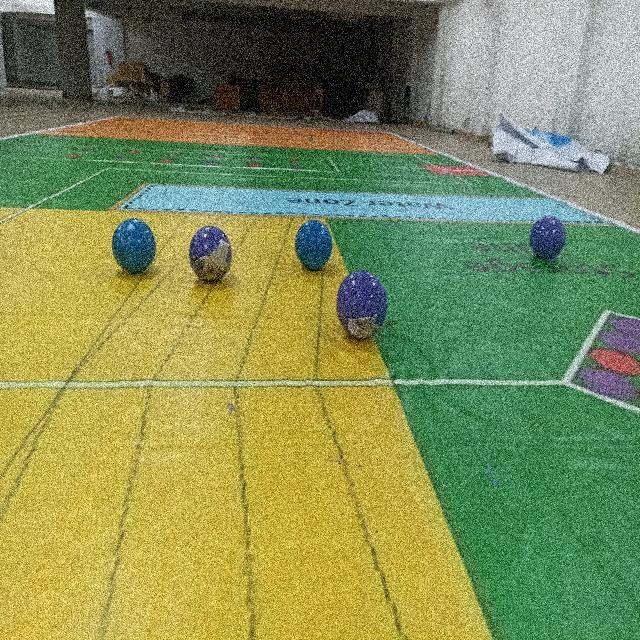blue_ball: (113, 220, 157, 273), (296, 220, 331, 271)
purple_ball: (335, 270, 387, 326), (191, 226, 231, 272), (533, 219, 564, 258)
